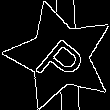P_NE: (28, 25, 91, 87)
